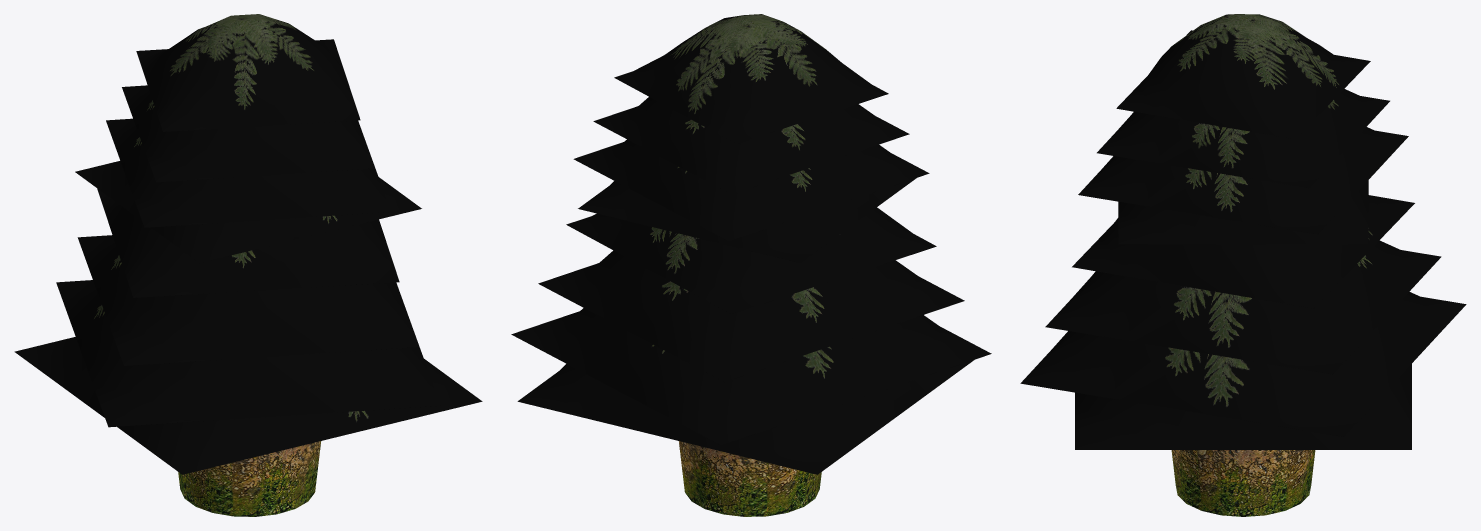
Rendered from plants.FBX.
3 renders of one model, left to right at view 1: azimuth 30°, elevation 25°; view 2: azimuth 150°, elevation 25°; view 3: azimuth 270°, elevation 25°, orthographic.
Parts seen in each view (by area): view 1: plants; view 2: plants; view 3: plants.
Boxes of the visible parts, x1,y1,x2,y2 form: plants: (14, 14, 482, 516); plants: (511, 14, 991, 516); plants: (1020, 14, 1466, 516).
Size of the model in its own units: 78.95 by 92.87 by 80.03.
